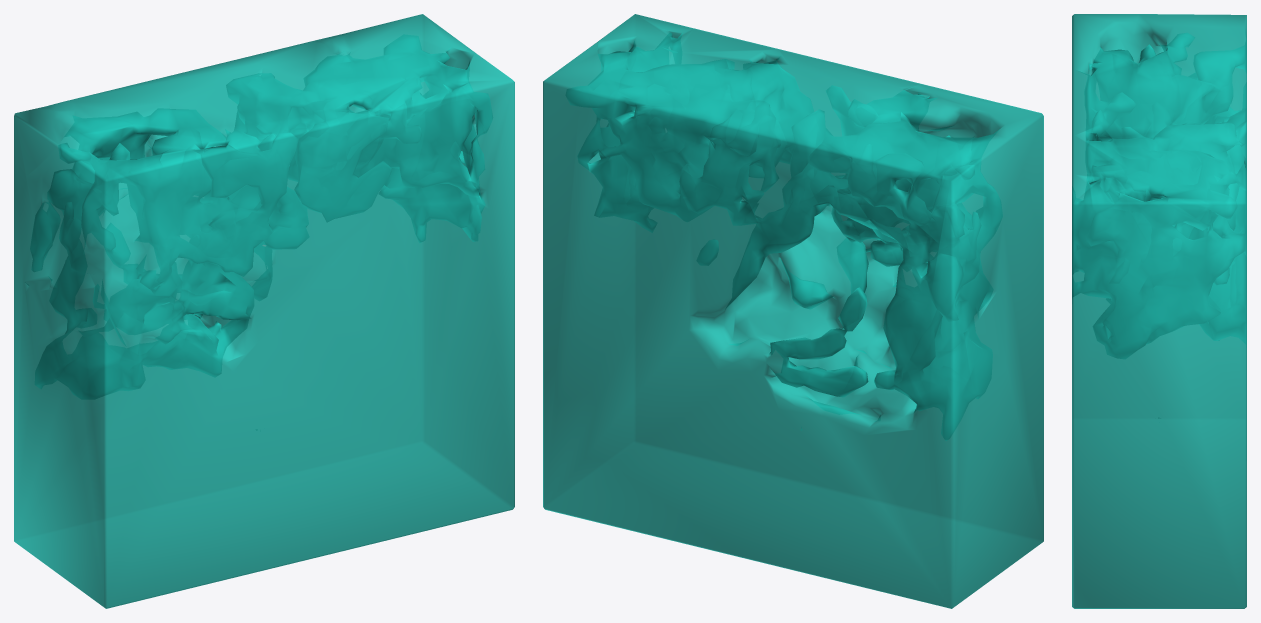
3 renders of one model, left to right at view 1: azimuth 30°, elevation 25°; view 2: azimuth 150°, elevation 25°; view 3: azimuth 270°, elevation 25°, orthographic. The views are drawn at different scales.
Visible parts, largest first — view 1: Liquid_Domain; view 2: Liquid_Domain; view 3: Liquid_Domain.
Part boxes in pixels (x1,y1,x2,y2): Liquid_Domain: (14,14,514,608); Liquid_Domain: (543,14,1043,608); Liquid_Domain: (1072,14,1246,608).
Size of the model in its own units: 884 by 885 by 344.
